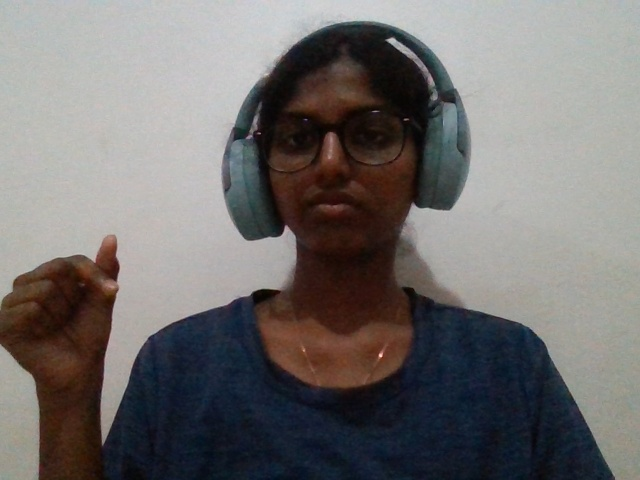G: (1, 223, 134, 478)
